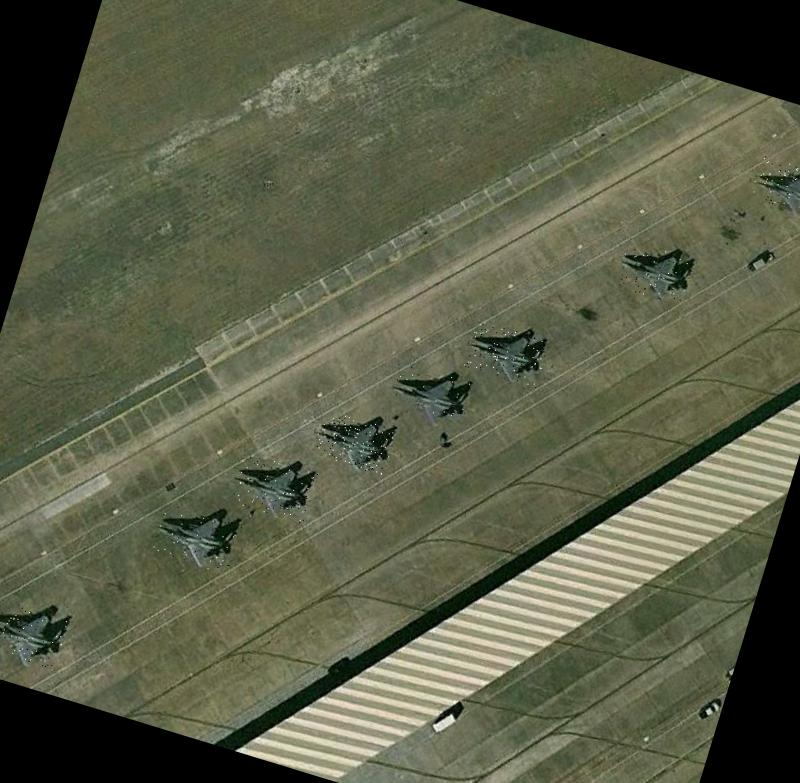A13: (150, 500, 243, 575), (384, 359, 475, 430), (230, 451, 318, 523), (464, 318, 550, 388), (311, 408, 397, 475), (614, 237, 696, 305), (0, 597, 69, 670), (748, 154, 800, 220)
